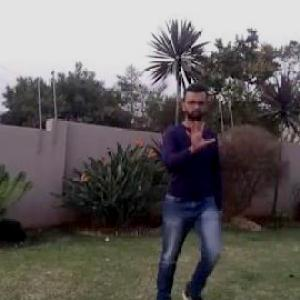follow_hand: (181, 116, 218, 154)
